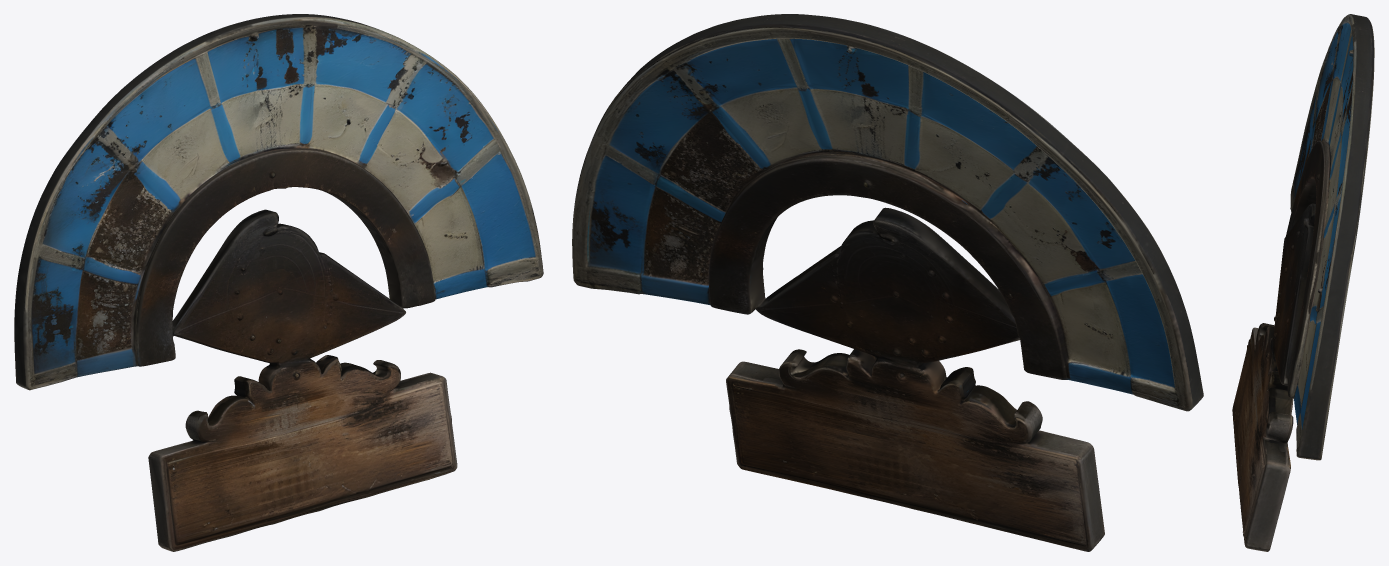
The model's file is Wariga.glb.
The picture shows the model from 3 angles, left to right: view 1: azimuth 30°, elevation 25°; view 2: azimuth 150°, elevation 25°; view 3: azimuth 270°, elevation 25°; orthographic projection. The views are drawn at different scales.
Visible parts, largest first — view 1: node_0; view 2: node_0; view 3: node_0.
Part boxes in pixels (box(x1,y1,x2,y2)): node_0: box(14, 14, 543, 551); node_0: box(572, 14, 1203, 551); node_0: box(1232, 14, 1374, 551).
Bounding box in the file's own units: 0.5816 × 0.4822 × 0.1394.
1 material, 1 textured.
